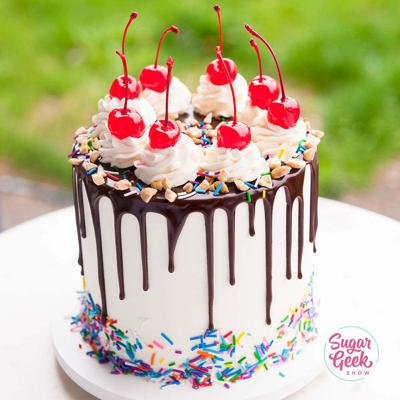cake: (62, 63, 321, 376)
